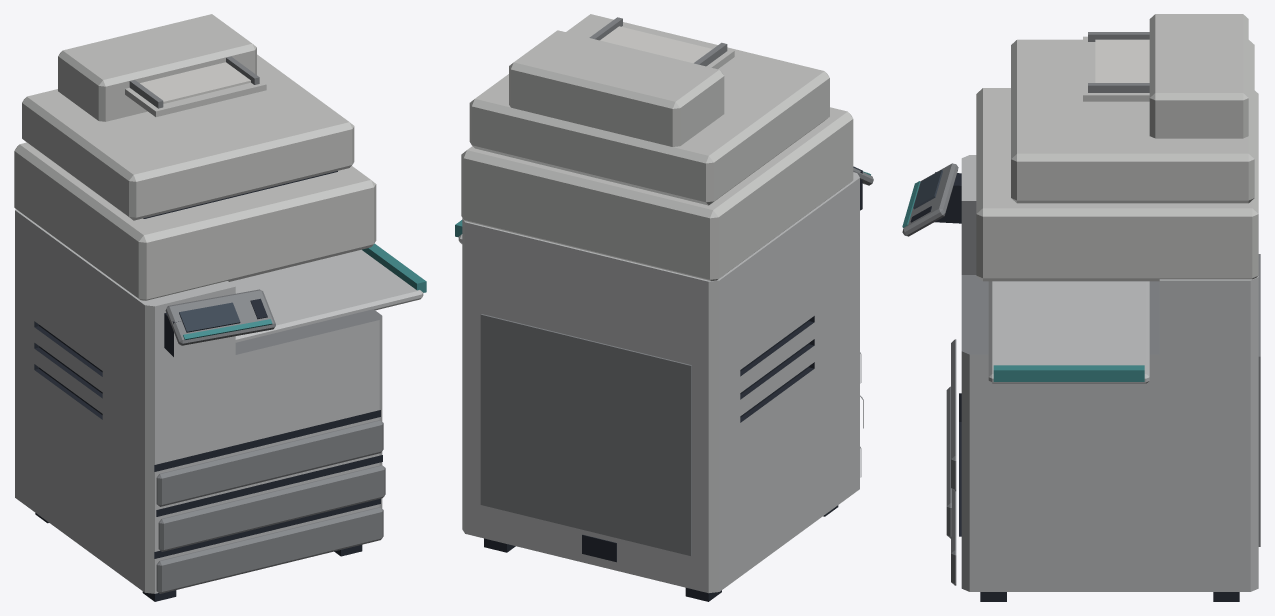
File: printer.glb
The picture shows the model from 3 angles, left to right: view 1: azimuth 30°, elevation 25°; view 2: azimuth 150°, elevation 25°; view 3: azimuth 270°, elevation 25°; orthographic projection. The views are drawn at different scales.
Parts seen in each view (by area): view 1: carcass, lid, drawer-2, drawer-3, drawer-1, panel-arm; view 2: carcass, lid; view 3: carcass, lid, panel-arm, drawer-2, drawer-3, drawer-1.
Part boxes in pixels (x1,y1,x2,y2): carcass: [14, 142, 426, 601]; lid: [22, 14, 354, 220]; drawer-2: [156, 455, 385, 551]; drawer-3: [154, 410, 383, 506]; drawer-1: [154, 498, 383, 593]; panel-arm: [164, 289, 275, 356]; carcass: [455, 107, 859, 601]; lid: [469, 14, 829, 205]; carcass: [961, 88, 1260, 601]; lid: [1011, 14, 1254, 203]; panel-arm: [902, 163, 961, 236]; drawer-2: [946, 386, 961, 538]; drawer-3: [951, 339, 956, 491]; drawer-1: [951, 489, 956, 585].
Size of the model in its own units: 0.74 by 1.1 by 0.7237.
